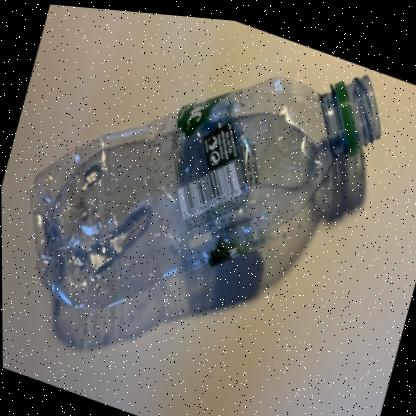Plastic: (28, 68, 378, 308)
